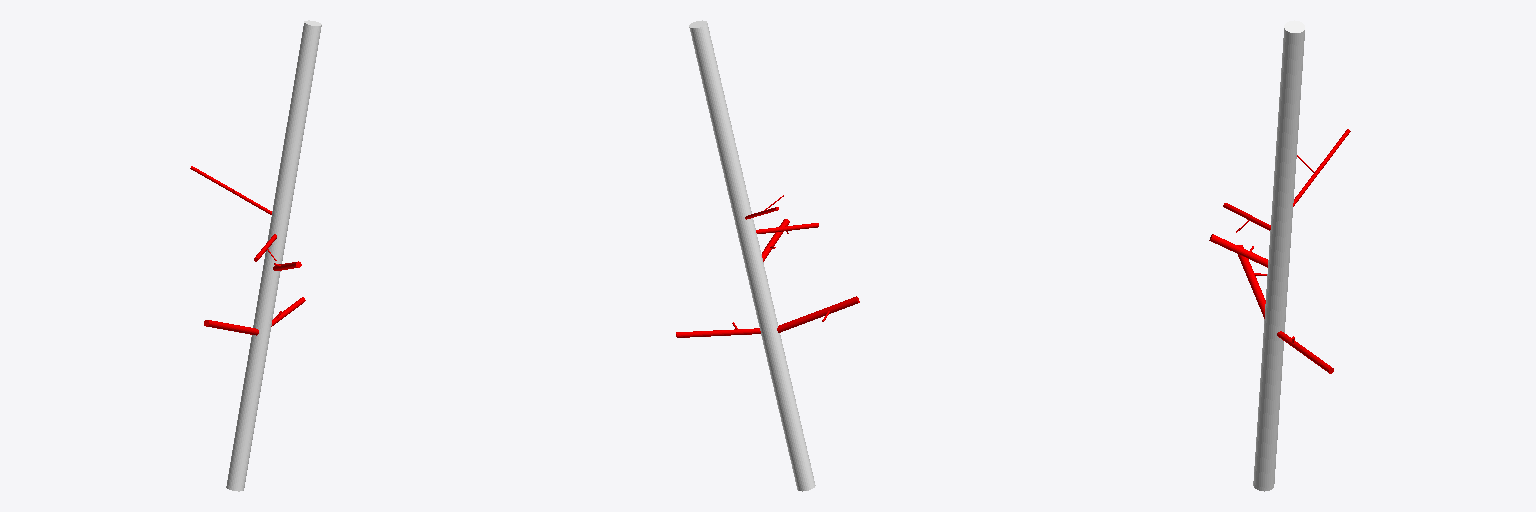
The robot description file, URDF, robot "tree_98.urdf":
<?xml version='1.0' encoding='UTF-8'?>
<robot name="tree_98.urdf">
  <link name="branch_0">
    <inertial>
      <origin xyz="0.0 0.0 0.0" rpy="0.0 -0.0 0.0"/>
      <mass value="0.1"/>
      <inertia ixx="0.001" ixy="0.0" ixz="0.0" iyy="0.001" iyz="0.0" izz="0.001"/>
    </inertial>
    <visual name="branch_0_visual">
      <geometry>
        <cylinder radius="0.14548554812290965" length="7.916008160306876"/>
      </geometry>
      <material name="branch_material"/>
      <origin xyz="0.8485371955152321 0.21264464975681077 3.8601247621376453" rpy="0.0 0.22285450668801024 0.24554465154084418"/>
    </visual>
    <collision name="branch_0_collision">
      <geometry>
        <cylinder radius="0.14548554812290965" length="7.916008160306876"/>
      </geometry>
      <origin xyz="0.8485371955152321 0.21264464975681077 3.8601247621376453" rpy="0.0 0.22285450668801024 0.24554465154084418"/>
    </collision>
  </link>
  <link name="branch_1">
    <inertial>
      <origin xyz="0.0 0.0 0.0" rpy="0.0 -0.0 0.0"/>
      <mass value="0.1"/>
      <inertia ixx="0.001" ixy="0.0" ixz="0.0" iyy="0.001" iyz="0.0" izz="0.001"/>
    </inertial>
    <visual name="branch_1_visual">
      <geometry>
        <cylinder radius="0.03709668916778555" length="1.141885785567844"/>
      </geometry>
      <material name="semantic_material"/>
      <origin xyz="0.0 0.0 0.0" rpy="0.0 -0.0 0.0"/>
    </visual>
    <collision name="branch_1_collision">
      <geometry>
        <cylinder radius="0.03709668916778555" length="1.141885785567844"/>
      </geometry>
      <origin xyz="0.0 0.0 0.0" rpy="0.0 -0.0 0.0"/>
    </collision>
  </link>
  <link name="branch_2">
    <inertial>
      <origin xyz="0.0 0.0 0.0" rpy="0.0 -0.0 0.0"/>
      <mass value="0.1"/>
      <inertia ixx="0.001" ixy="0.0" ixz="0.0" iyy="0.001" iyz="0.0" izz="0.001"/>
    </inertial>
    <visual name="branch_2_visual">
      <geometry>
        <cylinder radius="0.01" length="0.2853233402938676"/>
      </geometry>
      <material name="semantic_material"/>
      <origin xyz="0.0 0.0 0.0" rpy="0.0 -0.0 0.0"/>
    </visual>
    <collision name="branch_2_collision">
      <geometry>
        <cylinder radius="0.01" length="0.2853233402938676"/>
      </geometry>
      <origin xyz="0.0 0.0 0.0" rpy="0.0 -0.0 0.0"/>
    </collision>
  </link>
  <link name="branch_3">
    <inertial>
      <origin xyz="0.0 0.0 0.0" rpy="0.0 -0.0 0.0"/>
      <mass value="0.1"/>
      <inertia ixx="0.001" ixy="0.0" ixz="0.0" iyy="0.001" iyz="0.0" izz="0.001"/>
    </inertial>
    <visual name="branch_3_visual">
      <geometry>
        <cylinder radius="0.045714081886981096" length="1.4535819473232159"/>
      </geometry>
      <material name="semantic_material"/>
      <origin xyz="0.0 0.0 0.0" rpy="0.0 -0.0 0.0"/>
    </visual>
    <collision name="branch_3_collision">
      <geometry>
        <cylinder radius="0.045714081886981096" length="1.4535819473232159"/>
      </geometry>
      <origin xyz="0.0 0.0 0.0" rpy="0.0 -0.0 0.0"/>
    </collision>
  </link>
  <link name="branch_4">
    <inertial>
      <origin xyz="0.0 0.0 0.0" rpy="0.0 -0.0 0.0"/>
      <mass value="0.1"/>
      <inertia ixx="0.001" ixy="0.0" ixz="0.0" iyy="0.001" iyz="0.0" izz="0.001"/>
    </inertial>
    <visual name="branch_4_visual">
      <geometry>
        <cylinder radius="0.017844347575372864" length="0.17991053835463572"/>
      </geometry>
      <material name="semantic_material"/>
      <origin xyz="0.0 0.0 0.0" rpy="0.0 -0.0 0.0"/>
    </visual>
    <collision name="branch_4_collision">
      <geometry>
        <cylinder radius="0.017844347575372864" length="0.17991053835463572"/>
      </geometry>
      <origin xyz="0.0 0.0 0.0" rpy="0.0 -0.0 0.0"/>
    </collision>
  </link>
  <link name="branch_5">
    <inertial>
      <origin xyz="0.0 0.0 0.0" rpy="0.0 -0.0 0.0"/>
      <mass value="0.1"/>
      <inertia ixx="0.001" ixy="0.0" ixz="0.0" iyy="0.001" iyz="0.0" izz="0.001"/>
    </inertial>
    <visual name="branch_5_visual">
      <geometry>
        <cylinder radius="0.05130404504296934" length="1.031197903455653"/>
      </geometry>
      <material name="semantic_material"/>
      <origin xyz="0.0 0.0 0.0" rpy="0.0 -0.0 0.0"/>
    </visual>
    <collision name="branch_5_collision">
      <geometry>
        <cylinder radius="0.05130404504296934" length="1.031197903455653"/>
      </geometry>
      <origin xyz="0.0 0.0 0.0" rpy="0.0 -0.0 0.0"/>
    </collision>
  </link>
  <link name="branch_6">
    <inertial>
      <origin xyz="0.0 0.0 0.0" rpy="0.0 -0.0 0.0"/>
      <mass value="0.1"/>
      <inertia ixx="0.001" ixy="0.0" ixz="0.0" iyy="0.001" iyz="0.0" izz="0.001"/>
    </inertial>
    <visual name="branch_6_visual">
      <geometry>
        <cylinder radius="0.016142718653826126" length="0.16539081160387994"/>
      </geometry>
      <material name="semantic_material"/>
      <origin xyz="0.0 0.0 0.0" rpy="0.0 -0.0 0.0"/>
    </visual>
    <collision name="branch_6_collision">
      <geometry>
        <cylinder radius="0.016142718653826126" length="0.16539081160387994"/>
      </geometry>
      <origin xyz="0.0 0.0 0.0" rpy="0.0 -0.0 0.0"/>
    </collision>
  </link>
  <link name="branch_7">
    <inertial>
      <origin xyz="0.0 0.0 0.0" rpy="0.0 -0.0 0.0"/>
      <mass value="0.1"/>
      <inertia ixx="0.001" ixy="0.0" ixz="0.0" iyy="0.001" iyz="0.0" izz="0.001"/>
    </inertial>
    <visual name="branch_7_visual">
      <geometry>
        <cylinder radius="0.05634730951139868" length="1.5373374775133286"/>
      </geometry>
      <material name="semantic_material"/>
      <origin xyz="0.0 0.0 0.0" rpy="0.0 -0.0 0.0"/>
    </visual>
    <collision name="branch_7_collision">
      <geometry>
        <cylinder radius="0.05634730951139868" length="1.5373374775133286"/>
      </geometry>
      <origin xyz="0.0 0.0 0.0" rpy="0.0 -0.0 0.0"/>
    </collision>
  </link>
  <link name="branch_8">
    <inertial>
      <origin xyz="0.0 0.0 0.0" rpy="0.0 -0.0 0.0"/>
      <mass value="0.1"/>
      <inertia ixx="0.001" ixy="0.0" ixz="0.0" iyy="0.001" iyz="0.0" izz="0.001"/>
    </inertial>
    <visual name="branch_8_visual">
      <geometry>
        <cylinder radius="0.01672390017026589" length="0.3445063139123846"/>
      </geometry>
      <material name="semantic_material"/>
      <origin xyz="0.0 0.0 0.0" rpy="0.0 -0.0 0.0"/>
    </visual>
    <collision name="branch_8_collision">
      <geometry>
        <cylinder radius="0.01672390017026589" length="0.3445063139123846"/>
      </geometry>
      <origin xyz="0.0 0.0 0.0" rpy="0.0 -0.0 0.0"/>
    </collision>
  </link>
  <link name="branch_9">
    <inertial>
      <origin xyz="0.0 0.0 0.0" rpy="0.0 -0.0 0.0"/>
      <mass value="0.1"/>
      <inertia ixx="0.001" ixy="0.0" ixz="0.0" iyy="0.001" iyz="0.0" izz="0.001"/>
    </inertial>
    <visual name="branch_9_visual">
      <geometry>
        <cylinder radius="0.029104725385411208" length="1.66983770441319"/>
      </geometry>
      <material name="semantic_material"/>
      <origin xyz="0.0 0.0 0.0" rpy="0.0 -0.0 0.0"/>
    </visual>
    <collision name="branch_9_collision">
      <geometry>
        <cylinder radius="0.029104725385411208" length="1.66983770441319"/>
      </geometry>
      <origin xyz="0.0 0.0 0.0" rpy="0.0 -0.0 0.0"/>
    </collision>
  </link>
  <link name="branch_10">
    <inertial>
      <origin xyz="0.0 0.0 0.0" rpy="0.0 -0.0 0.0"/>
      <mass value="0.1"/>
      <inertia ixx="0.001" ixy="0.0" ixz="0.0" iyy="0.001" iyz="0.0" izz="0.001"/>
    </inertial>
    <visual name="branch_10_visual">
      <geometry>
        <cylinder radius="0.01" length="0.45778300890663054"/>
      </geometry>
      <material name="semantic_material"/>
      <origin xyz="0.0 0.0 0.0" rpy="0.0 -0.0 0.0"/>
    </visual>
    <collision name="branch_10_collision">
      <geometry>
        <cylinder radius="0.01" length="0.45778300890663054"/>
      </geometry>
      <origin xyz="0.0 0.0 0.0" rpy="0.0 -0.0 0.0"/>
    </collision>
  </link>
  <joint name="joint_0_1" type="fixed">
    <parent link="branch_0"/>
    <child link="branch_1"/>
    <axis xyz="1. 0. 0."/>
    <origin xyz="0.5067403480621832 -0.1473838348492518 4.255467529257626" rpy="-1.2955404608530952 1.4620082302951203 2.5752112614954688"/>
  </joint>
  <joint name="joint_0_3" type="fixed">
    <parent link="branch_0"/>
    <child link="branch_3"/>
    <axis xyz="1. 0. 0."/>
    <origin xyz="1.187451332510974 0.5346295380447718 2.5914966981311753" rpy="2.0087135377032412 1.4922653627702467 2.575169691456217"/>
  </joint>
  <joint name="joint_0_5" type="fixed">
    <parent link="branch_0"/>
    <child link="branch_5"/>
    <axis xyz="1. 0. 0."/>
    <origin xyz="0.7843828083577186 -0.26121628439977956 3.8757452448779977" rpy="-0.4349857389278469 1.0616905324971466 -2.0976651676716846"/>
  </joint>
  <joint name="joint_0_7" type="fixed">
    <parent link="branch_0"/>
    <child link="branch_7"/>
    <axis xyz="1. 0. 0."/>
    <origin xyz="-0.08001515411470358 -0.09844351340430577 2.920009410828519" rpy="-0.0513250410155563 1.117656924326117 -2.842904735576279"/>
  </joint>
  <joint name="joint_0_9" type="fixed">
    <parent link="branch_0"/>
    <child link="branch_9"/>
    <axis xyz="1. 0. 0."/>
    <origin xyz="0.41679996944100234 0.7060252853892932 4.887027917622596" rpy="0.3293567818751771 1.0346242166845818 2.840971787411701"/>
  </joint>
  <joint name="joint_1_2" type="fixed">
    <parent link="branch_0"/>
    <child link="branch_2"/>
    <axis xyz="1. 0. 0."/>
    <origin xyz="0.5133693425620989 -0.27667456859439643 4.164634495959098" rpy="2.2919060992213574 0.21590774844463045 0.5235285021374361"/>
  </joint>
  <joint name="joint_3_4" type="fixed">
    <parent link="branch_0"/>
    <child link="branch_4"/>
    <axis xyz="1. 0. 0."/>
    <origin xyz="1.0361988065306584 0.40259382011817124 2.6699863967306405" rpy="-0.45795031642664896 -0.5129166363242629 -2.3505296504914934"/>
  </joint>
  <joint name="joint_5_6" type="fixed">
    <parent link="branch_0"/>
    <child link="branch_6"/>
    <axis xyz="1. 0. 0."/>
    <origin xyz="0.7170134897967257 -0.17707856105907996 3.8800155592811247" rpy="-1.156614332707735 0.5492050284563526 1.32555530937775"/>
  </joint>
  <joint name="joint_7_8" type="fixed">
    <parent link="branch_0"/>
    <child link="branch_8"/>
    <axis xyz="1. 0. 0."/>
    <origin xyz="-0.34731275491811026 -0.017845622284799453 3.018398255042576" rpy="-1.7166910345522681 0.4328277149523919 0.137417255407678"/>
  </joint>
  <joint name="joint_9_10" type="fixed">
    <parent link="branch_0"/>
    <child link="branch_10"/>
    <axis xyz="1. 0. 0."/>
    <origin xyz="0.29116963741972185 0.5552601799046659 5.011372500808295" rpy="0.9816675302077451 0.39325331946266 -0.8820243580815853"/>
  </joint>
  <material name="branch_material">
    <color rgba="1. 1. 1. 1."/>
  </material>
  <material name="semantic_material">
    <color rgba="1. 0. 0. 1."/>
  </material>
</robot>

--- Render facts (derived) ---
3 views of the same robot in one strip: view 1: azimuth 30°, elevation 25°; view 2: azimuth 150°, elevation 25°; view 3: azimuth 270°, elevation 25° (orthographic).
Robot: tree_98.urdf — 11 links, 10 joints (10 fixed); root link branch_0; default pose: all joints at 0.
Links seen in each view (by area): view 1: branch_0; view 2: branch_0, branch_7; view 3: branch_0.
Link boxes in pixels (<box>): branch_0: <box>226,20,321,491</box>; branch_0: <box>689,20,815,491</box>; branch_7: <box>777,296,859,332</box>; branch_0: <box>1253,20,1304,491</box>.
Bounding box of the posed robot: 2.6 × 1.94 × 7.78 m (x, y, z).
Geometry: primitives only (box / cylinder / sphere), no mesh files.